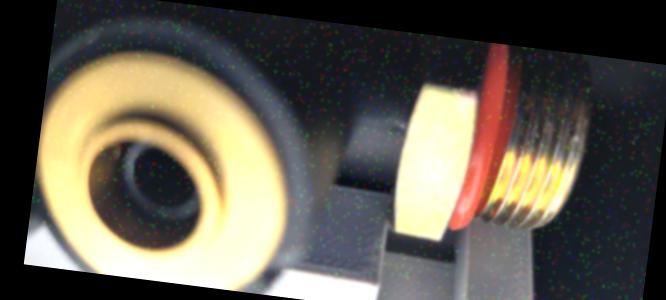bump: (253, 259, 288, 291)
joint line: (352, 118, 387, 133)
white mark: (392, 121, 406, 133)
